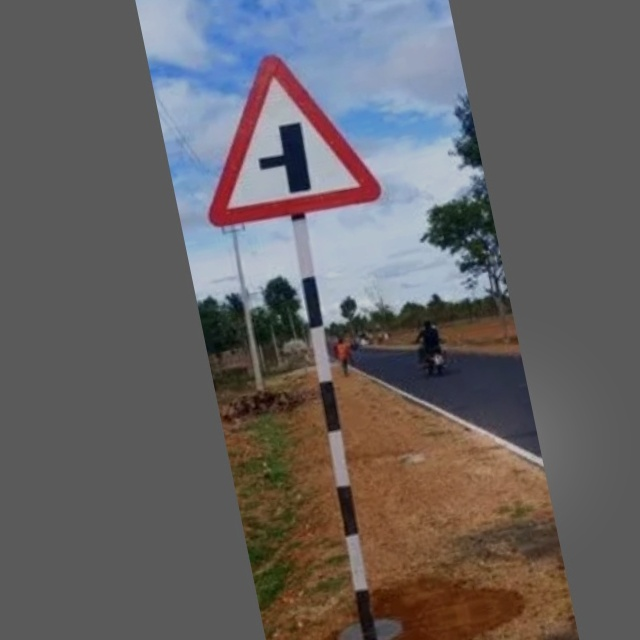Side_Road_Left: (185, 36, 385, 239)
